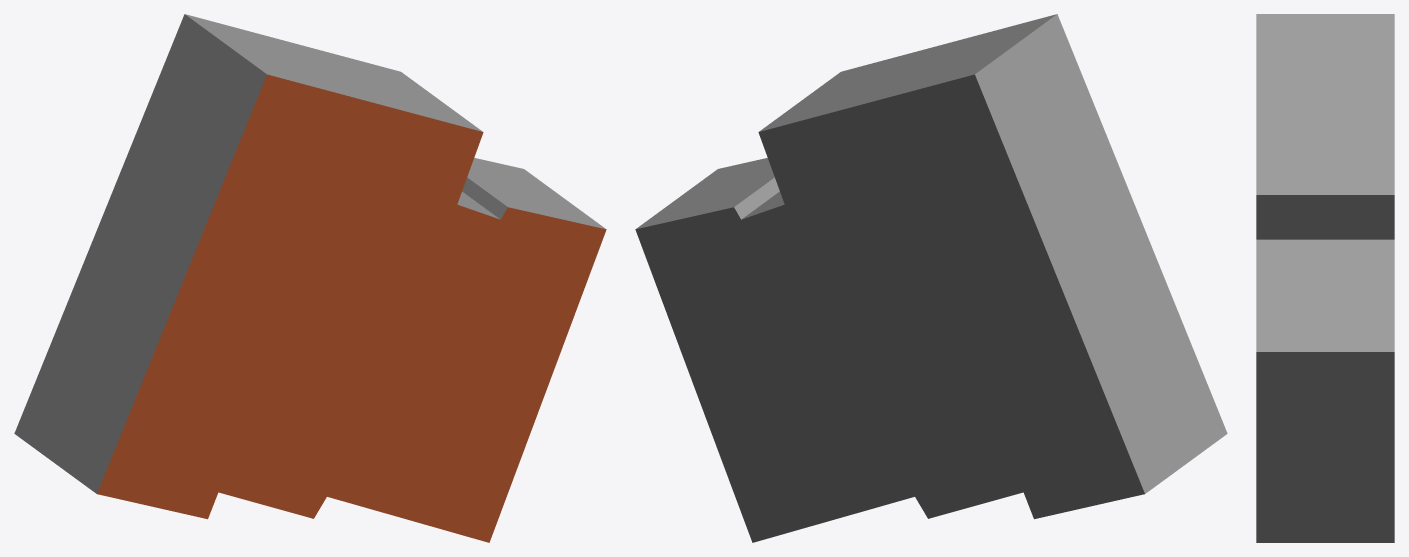
Rendered from construction_0807_assumed_A_Casa_h6m.obj.
The picture shows the model from 3 angles, left to right: view 1: azimuth 30°, elevation 25°; view 2: azimuth 150°, elevation 25°; view 3: azimuth 270°, elevation 25°; orthographic projection. The views are drawn at different scales.
Parts seen in each view (by area): view 1: construction_0807_assumed_A_Casa; view 2: construction_0807_assumed_A_Casa; view 3: construction_0807_assumed_A_Casa.
Part boxes in pixels (x1,y1,x2,y2): construction_0807_assumed_A_Casa: (14,14,606,542); construction_0807_assumed_A_Casa: (635,14,1227,542); construction_0807_assumed_A_Casa: (1256,14,1394,542).
Bounding box in the file's own units: 21.39 × 20.97 × 6.
